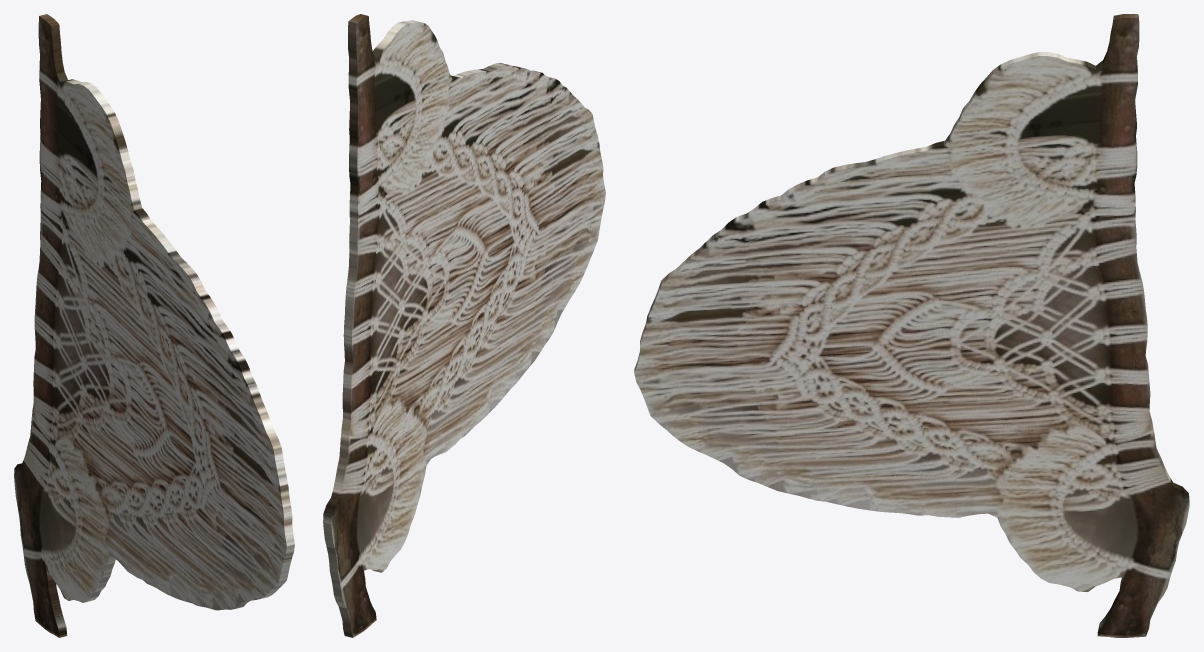
3 renders of one model, left to right at view 1: azimuth 30°, elevation 25°; view 2: azimuth 150°, elevation 25°; view 3: azimuth 270°, elevation 25°, orthographic.
Size of the model in its own units: 0.0112 by 0.8018 by 0.6509.
1 material, 1 textured.
